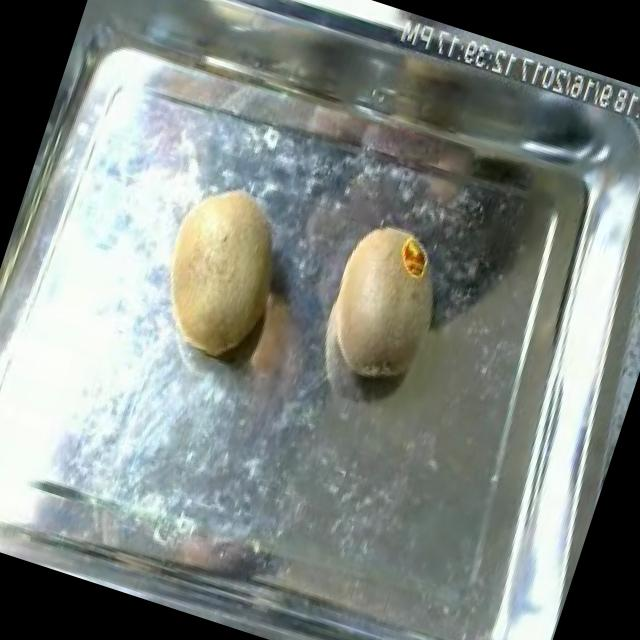Fruit: (300, 202, 474, 410), (137, 166, 306, 372)
